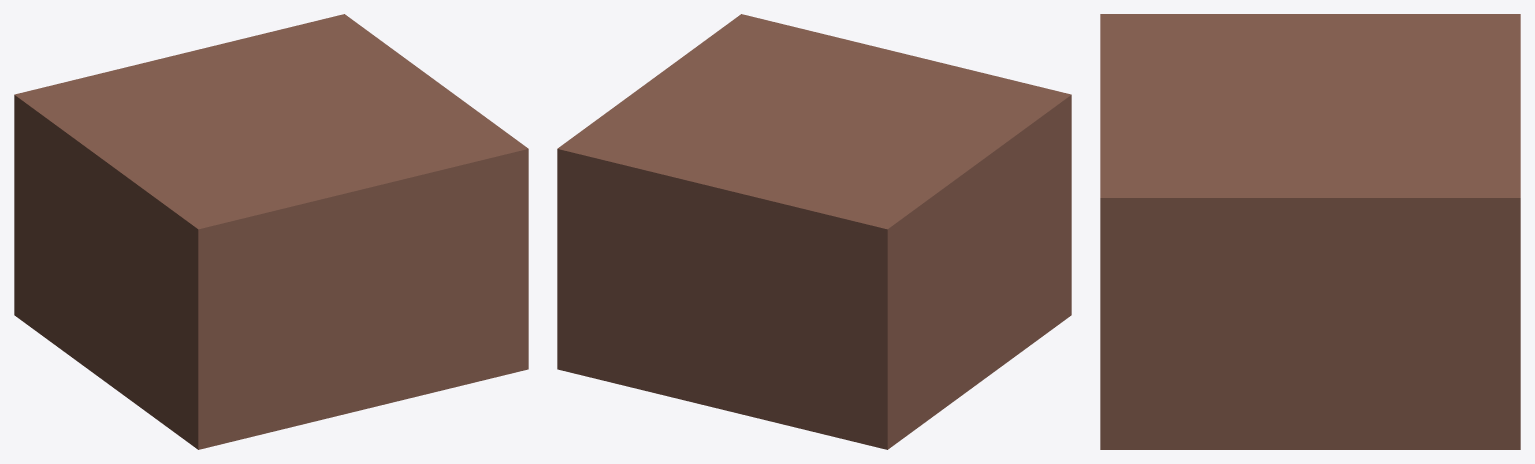
Rendered from Helmet_Guard_4.glb.
3 views of the same model, side by side, from view 1: azimuth 30°, elevation 25°; view 2: azimuth 150°, elevation 25°; view 3: azimuth 270°, elevation 25° (orthographic). The views are drawn at different scales.
Size of the model in its own units: 0.58 by 0.37 by 0.56.
